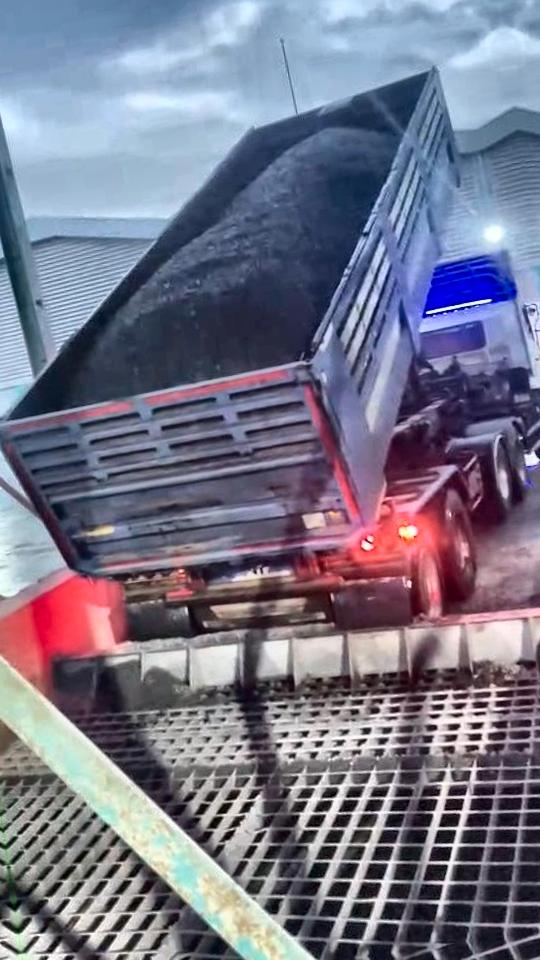gravel: (58, 128, 398, 406)
